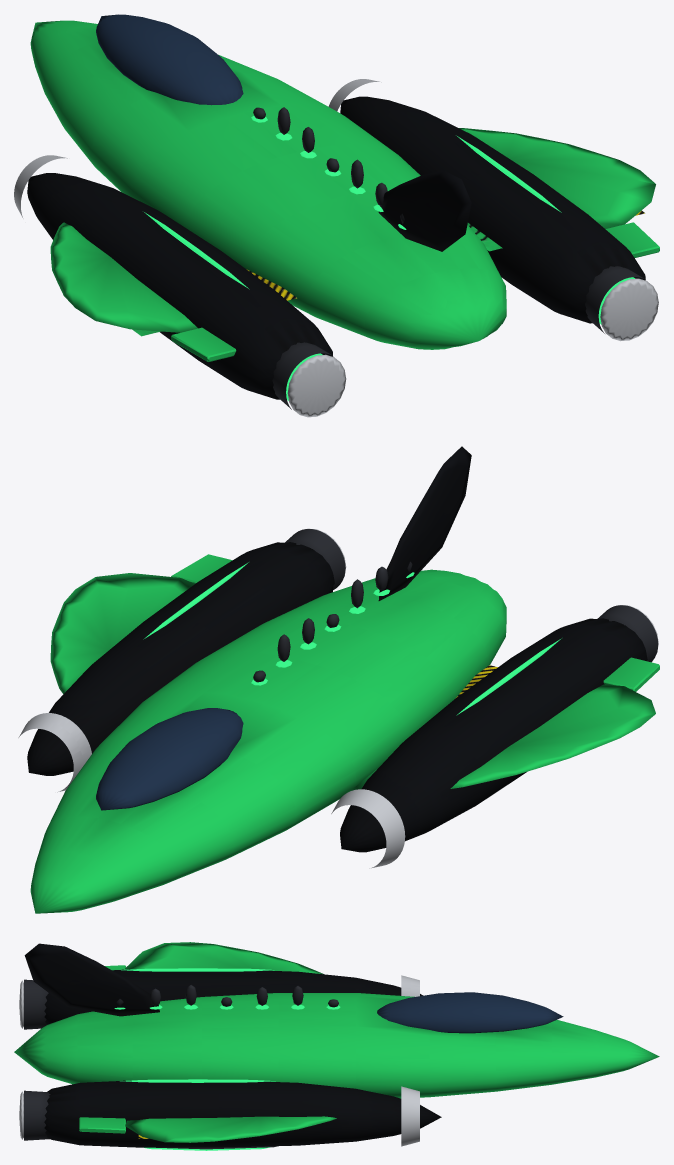
File: craft_2.glb
3 views of the same model, one above another, from view 1: azimuth 30°, elevation 25°; view 2: azimuth 150°, elevation 25°; view 3: azimuth 270°, elevation 25° (orthographic). The views are drawn at different scales.
Visible parts, largest first — view 1: craft_2_body, craft_2_canopy, flap_L_plate.002, flap_R_plate.002; view 2: craft_2_body, craft_2_canopy, flap_L_plate.002, flap_R_plate.002; view 3: craft_2_body, craft_2_canopy, flap_R_plate.002.
Part boxes in pixels (x1,y1,x2,y2): craft_2_body: (14,20,658,417); craft_2_canopy: (96,14,243,105); flap_L_plate.002: (171,327,236,361); flap_R_plate.002: (605,222,659,257); craft_2_body: (18,446,658,913); craft_2_canopy: (96,708,243,810); flap_L_plate.002: (603,657,659,691); flap_R_plate.002: (171,554,232,583); craft_2_body: (14,942,659,1150); craft_2_canopy: (377,992,563,1033); flap_R_plate.002: (79,1117,125,1133).
Bounding box in the file's own units: 5.6 × 1.9 × 7.62.
Materials: 8 (1 with a texture image).
